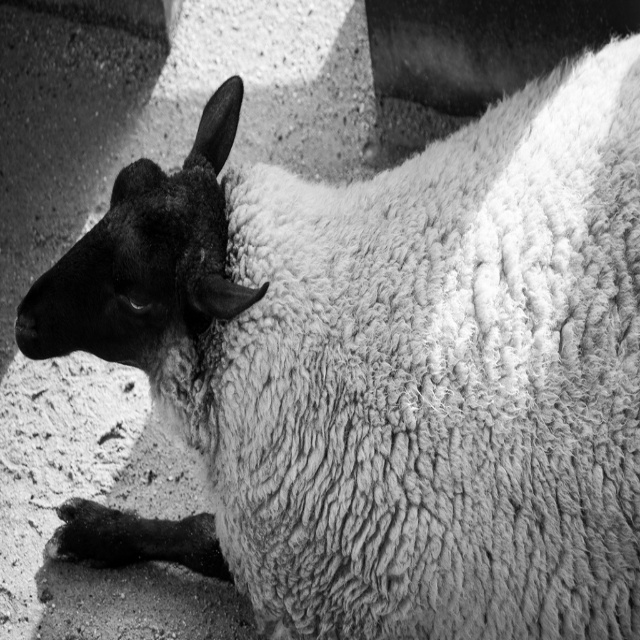Sheep: (13, 29, 640, 639)
